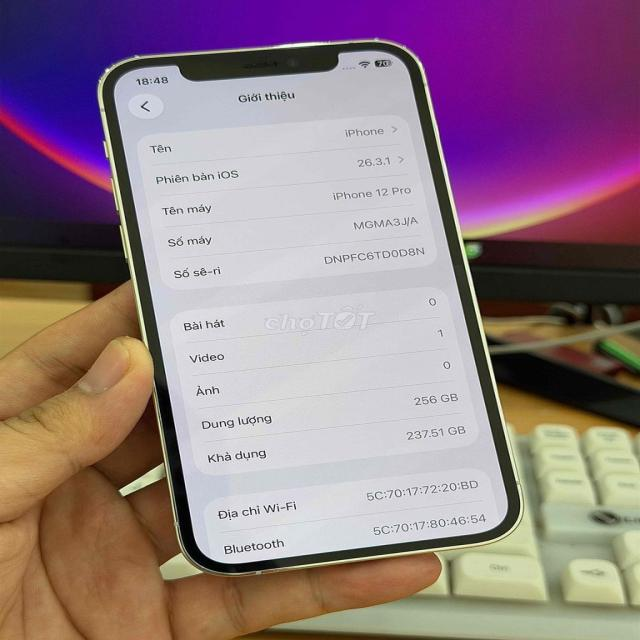gen_12_13: (85, 35, 527, 582)
